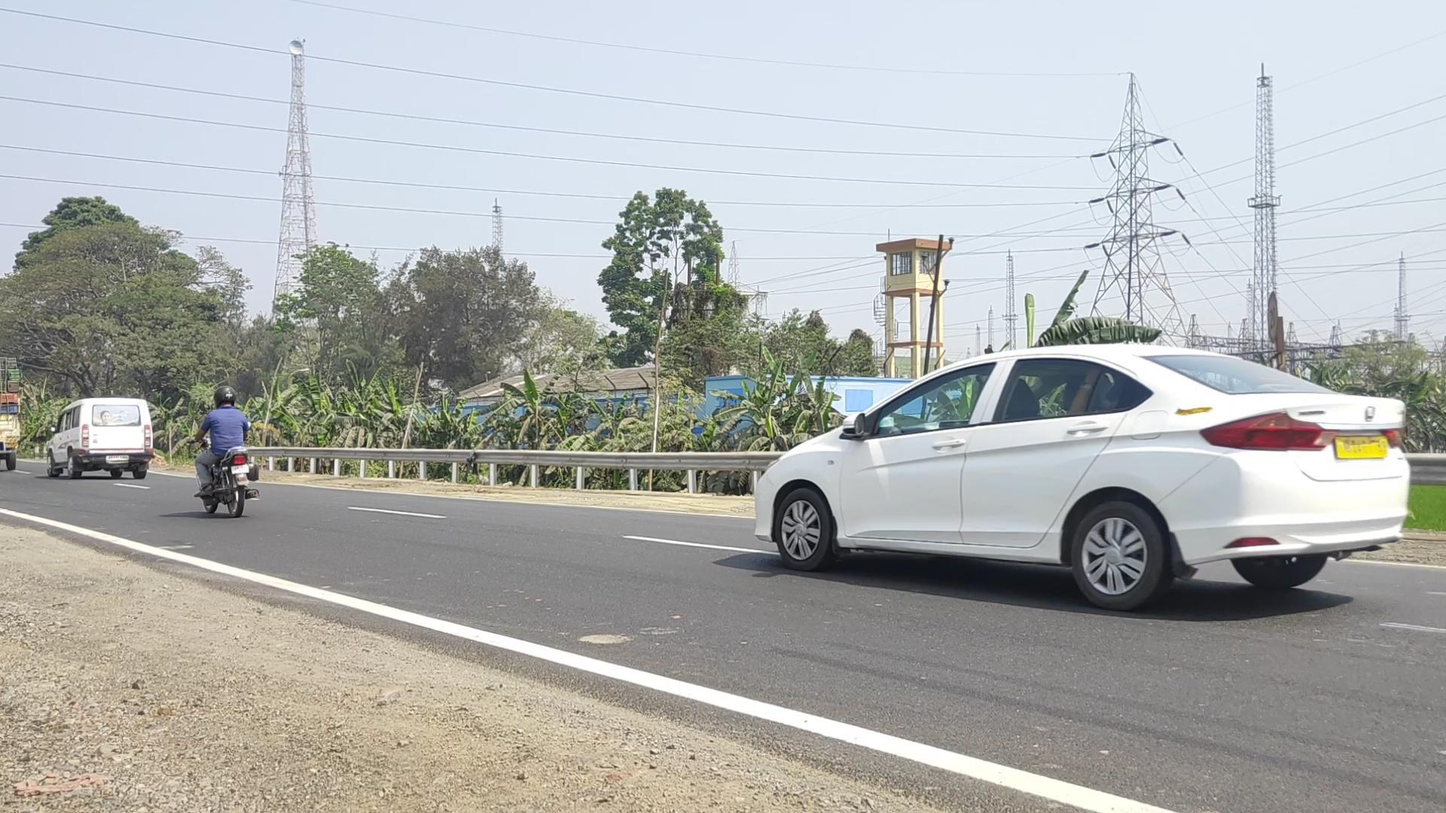bike: (187, 385, 261, 519)
car: (754, 343, 1411, 611), (47, 397, 154, 480)
